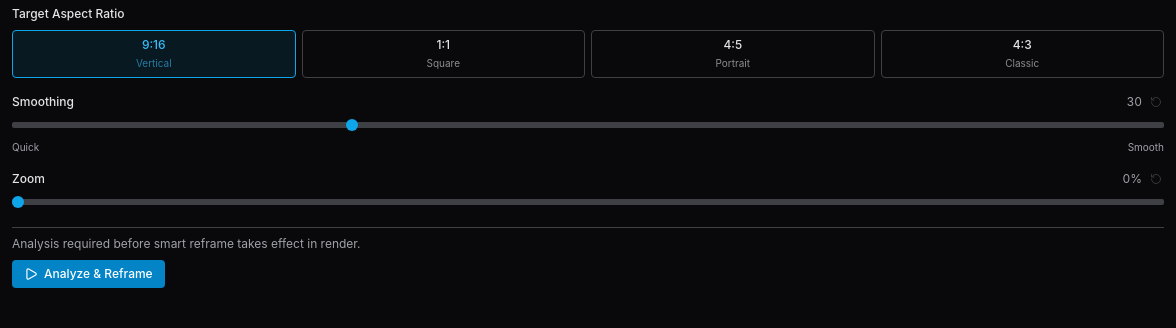
Test case: SmartReframePanel › should display error message when analysis fails
Click the button with test id "analyze-button" at (88,274), box [12,260,165,288]
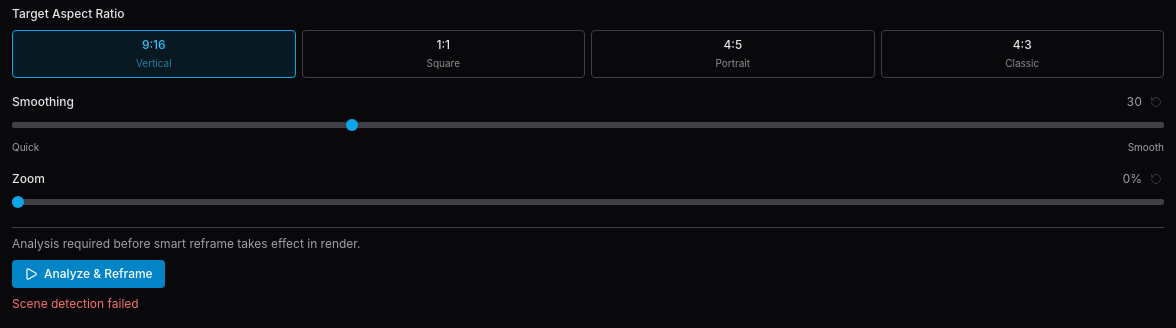
Expected: the text "Scene detection failed" is shown, [12,296,139,311]
